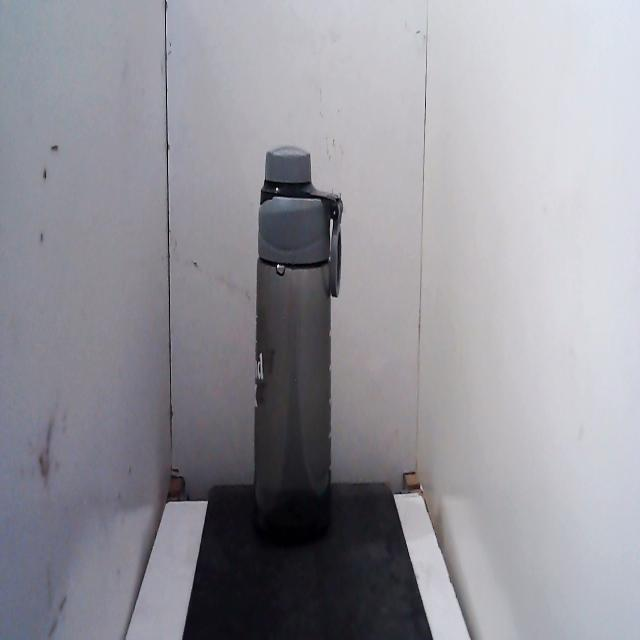plastico: (246, 129, 348, 564)
